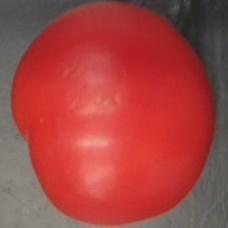unripe: (8, 0, 218, 228)
